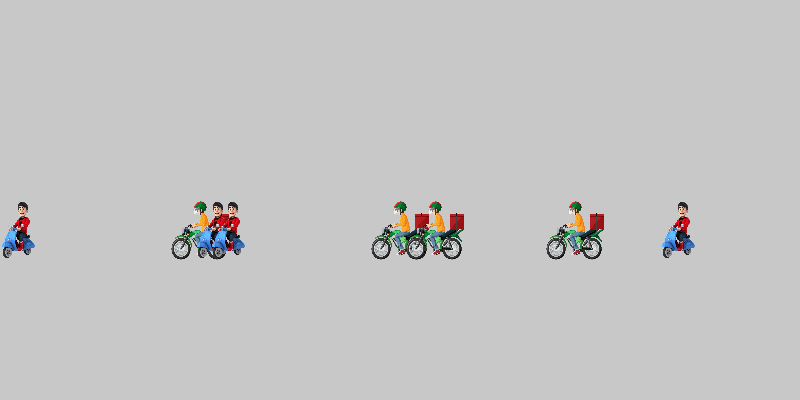helmet: (170, 200, 230, 260), (370, 200, 430, 260), (405, 200, 465, 260), (545, 200, 605, 260)
no_helmet: (185, 200, 245, 260), (200, 200, 260, 260), (650, 200, 710, 260), (0, 200, 50, 260)
